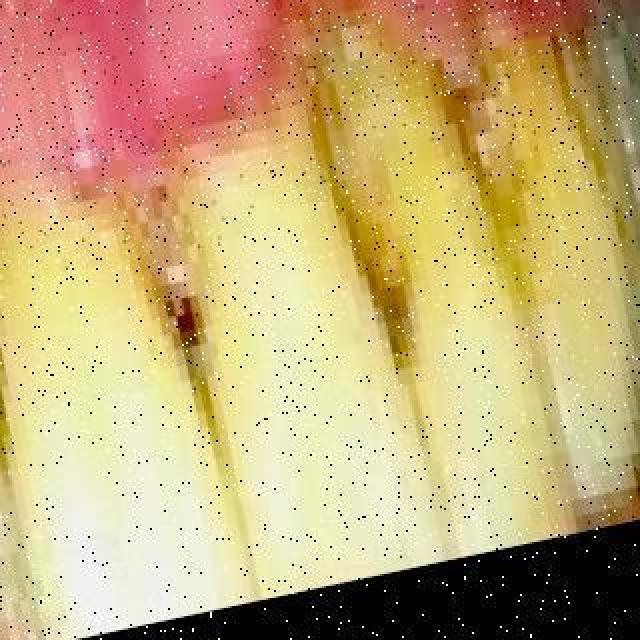calculus: (121, 116, 371, 392), (310, 0, 486, 310), (0, 134, 152, 394), (445, 10, 593, 190), (0, 100, 44, 412)
